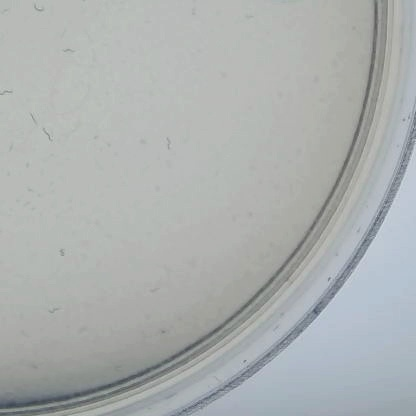worm: (53, 242, 72, 265), (147, 280, 169, 299), (26, 0, 49, 17), (56, 45, 78, 61), (0, 88, 17, 107), (21, 110, 44, 124), (161, 130, 173, 156), (40, 126, 55, 145), (45, 304, 66, 317), (8, 135, 21, 152), (0, 0, 9, 16)
